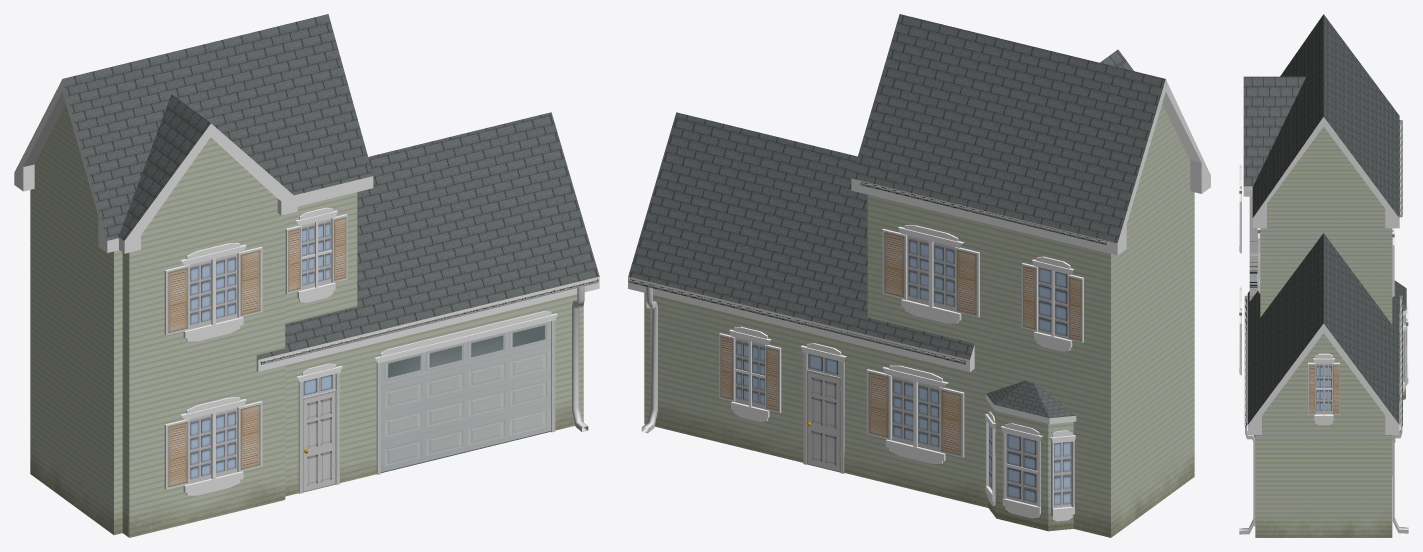
The model's file is house_3.glb.
3 views of the same model, side by side, from view 1: azimuth 30°, elevation 25°; view 2: azimuth 150°, elevation 25°; view 3: azimuth 270°, elevation 25° (orthographic). The views are drawn at different scales.
Visible parts, largest first — view 1: Untitled; view 2: Untitled; view 3: Untitled.
Boxes of the visible parts, <box> form: Untitled: <box>14,14,599,537</box>; Untitled: <box>628,14,1210,537</box>; Untitled: <box>1239,14,1408,537</box>.
Size of the model in its own units: 8.43 by 7.07 by 3.2.
Materials: 1 (1 with a texture image).
